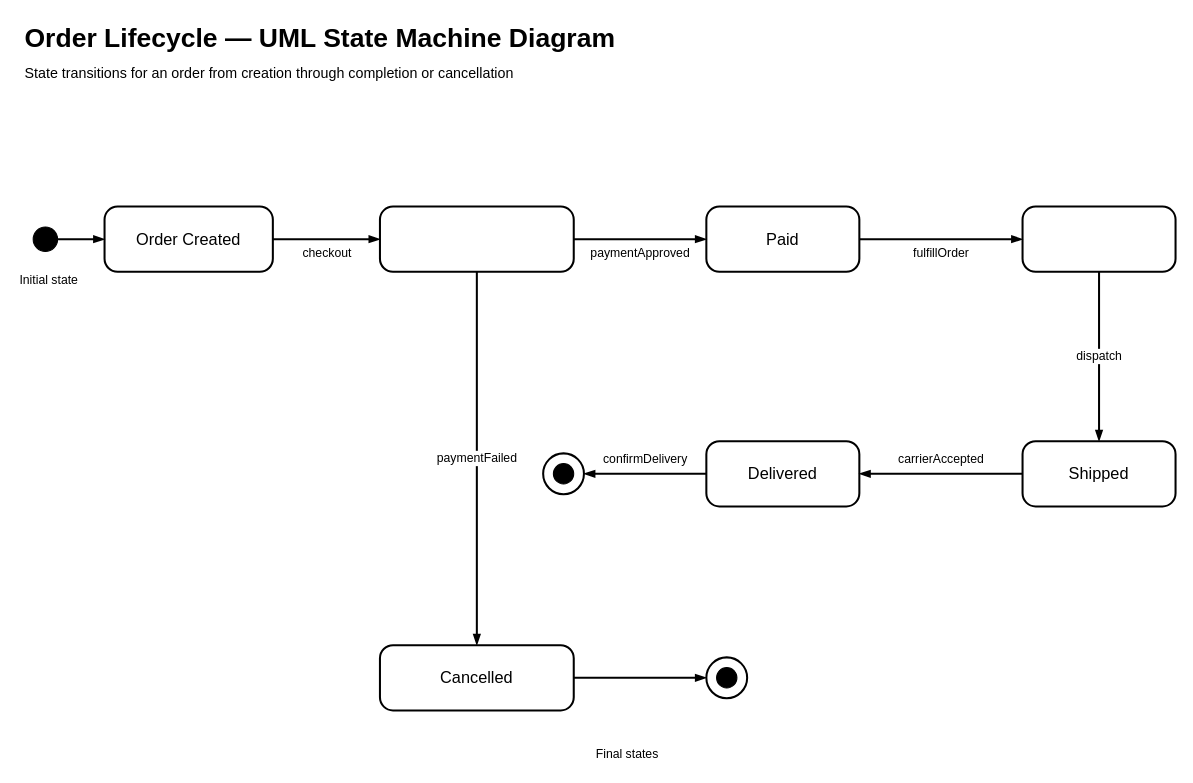
Image size: 1193x783. Some labels were removed from this diagram. The centre of each missing label's shape, as x and y in pixels:
Awaiting Payment: point 476,238
Packing: point 1098,238
